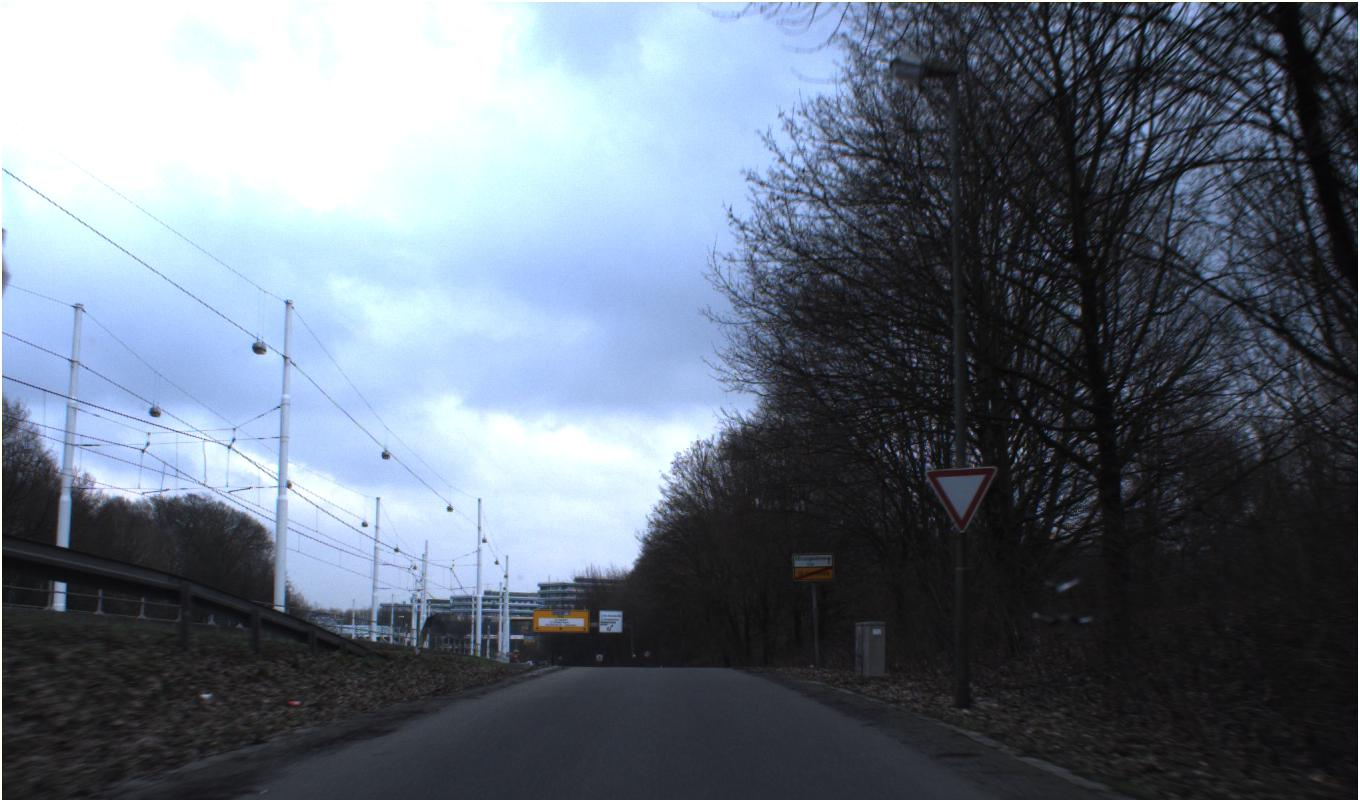sign: (923, 465, 997, 533)
